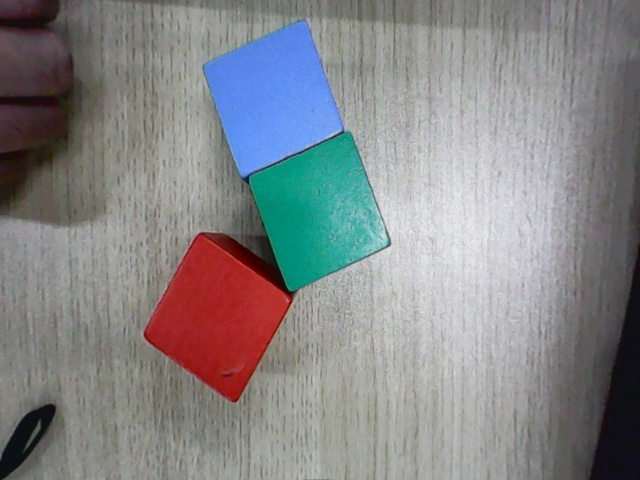upside of big cube: (142, 234, 293, 404), (248, 130, 391, 295), (201, 20, 345, 178)
